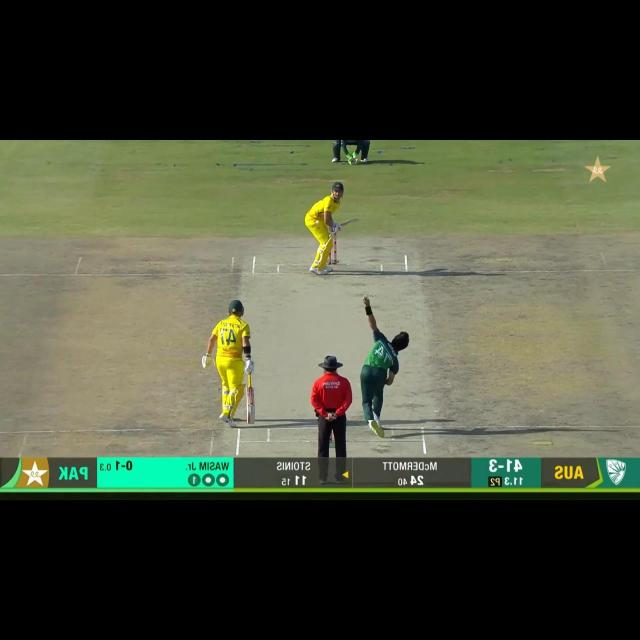bat: (244, 388, 256, 425), (337, 218, 360, 226)
toe: (246, 417, 256, 424), (354, 218, 359, 222)
